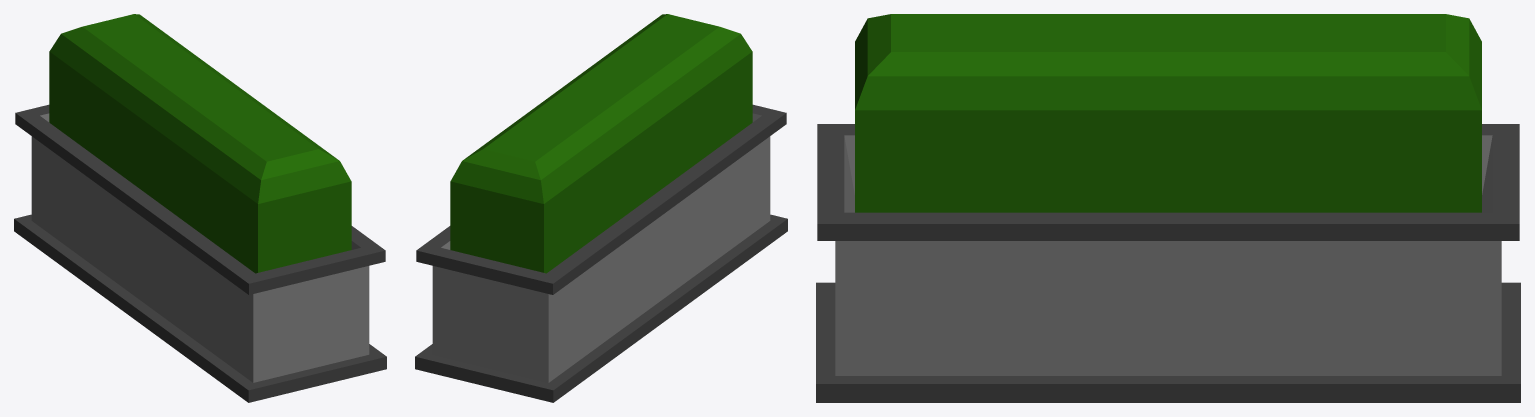
Rendered from bush_02_Medium.fbx.
3 renders of one model, left to right at view 1: azimuth 30°, elevation 25°; view 2: azimuth 150°, elevation 25°; view 3: azimuth 270°, elevation 25°, orthographic. The views are drawn at different scales.
Parts seen in each view (by area): view 1: bush_02_Medium; view 2: bush_02_Medium; view 3: bush_02_Medium.
Part boxes in pixels (x1,y1,x2,y2): bush_02_Medium: (14, 14, 386, 402); bush_02_Medium: (415, 14, 787, 402); bush_02_Medium: (816, 14, 1520, 402).
Bounding box in the file's own units: 100 × 147 × 294.
Materials: 1 (1 with a texture image).
